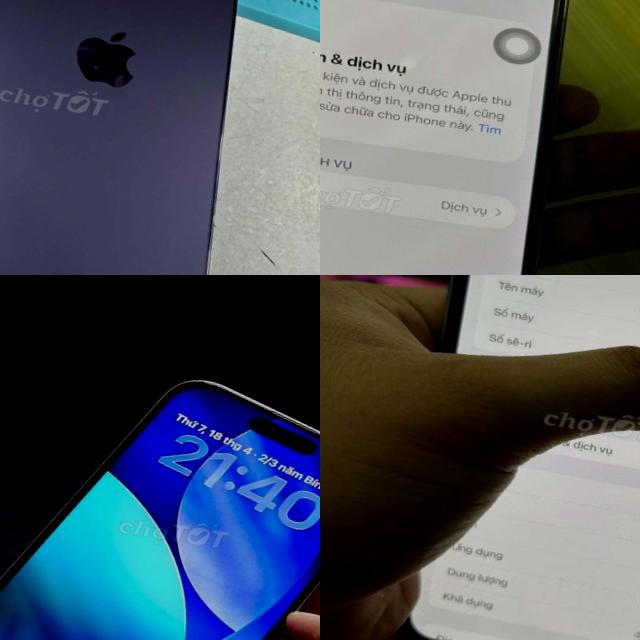gen_11: (381, 275, 640, 640)
gen_14: (0, 0, 284, 275), (320, 0, 601, 275)
gen_15: (0, 329, 320, 640)
